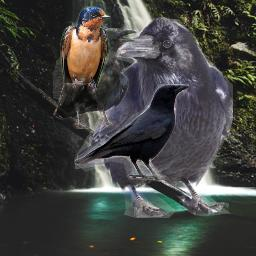Crow: (75, 15, 233, 218), (74, 84, 189, 180), (53, 28, 137, 129)
Swallow: (60, 6, 111, 94)
